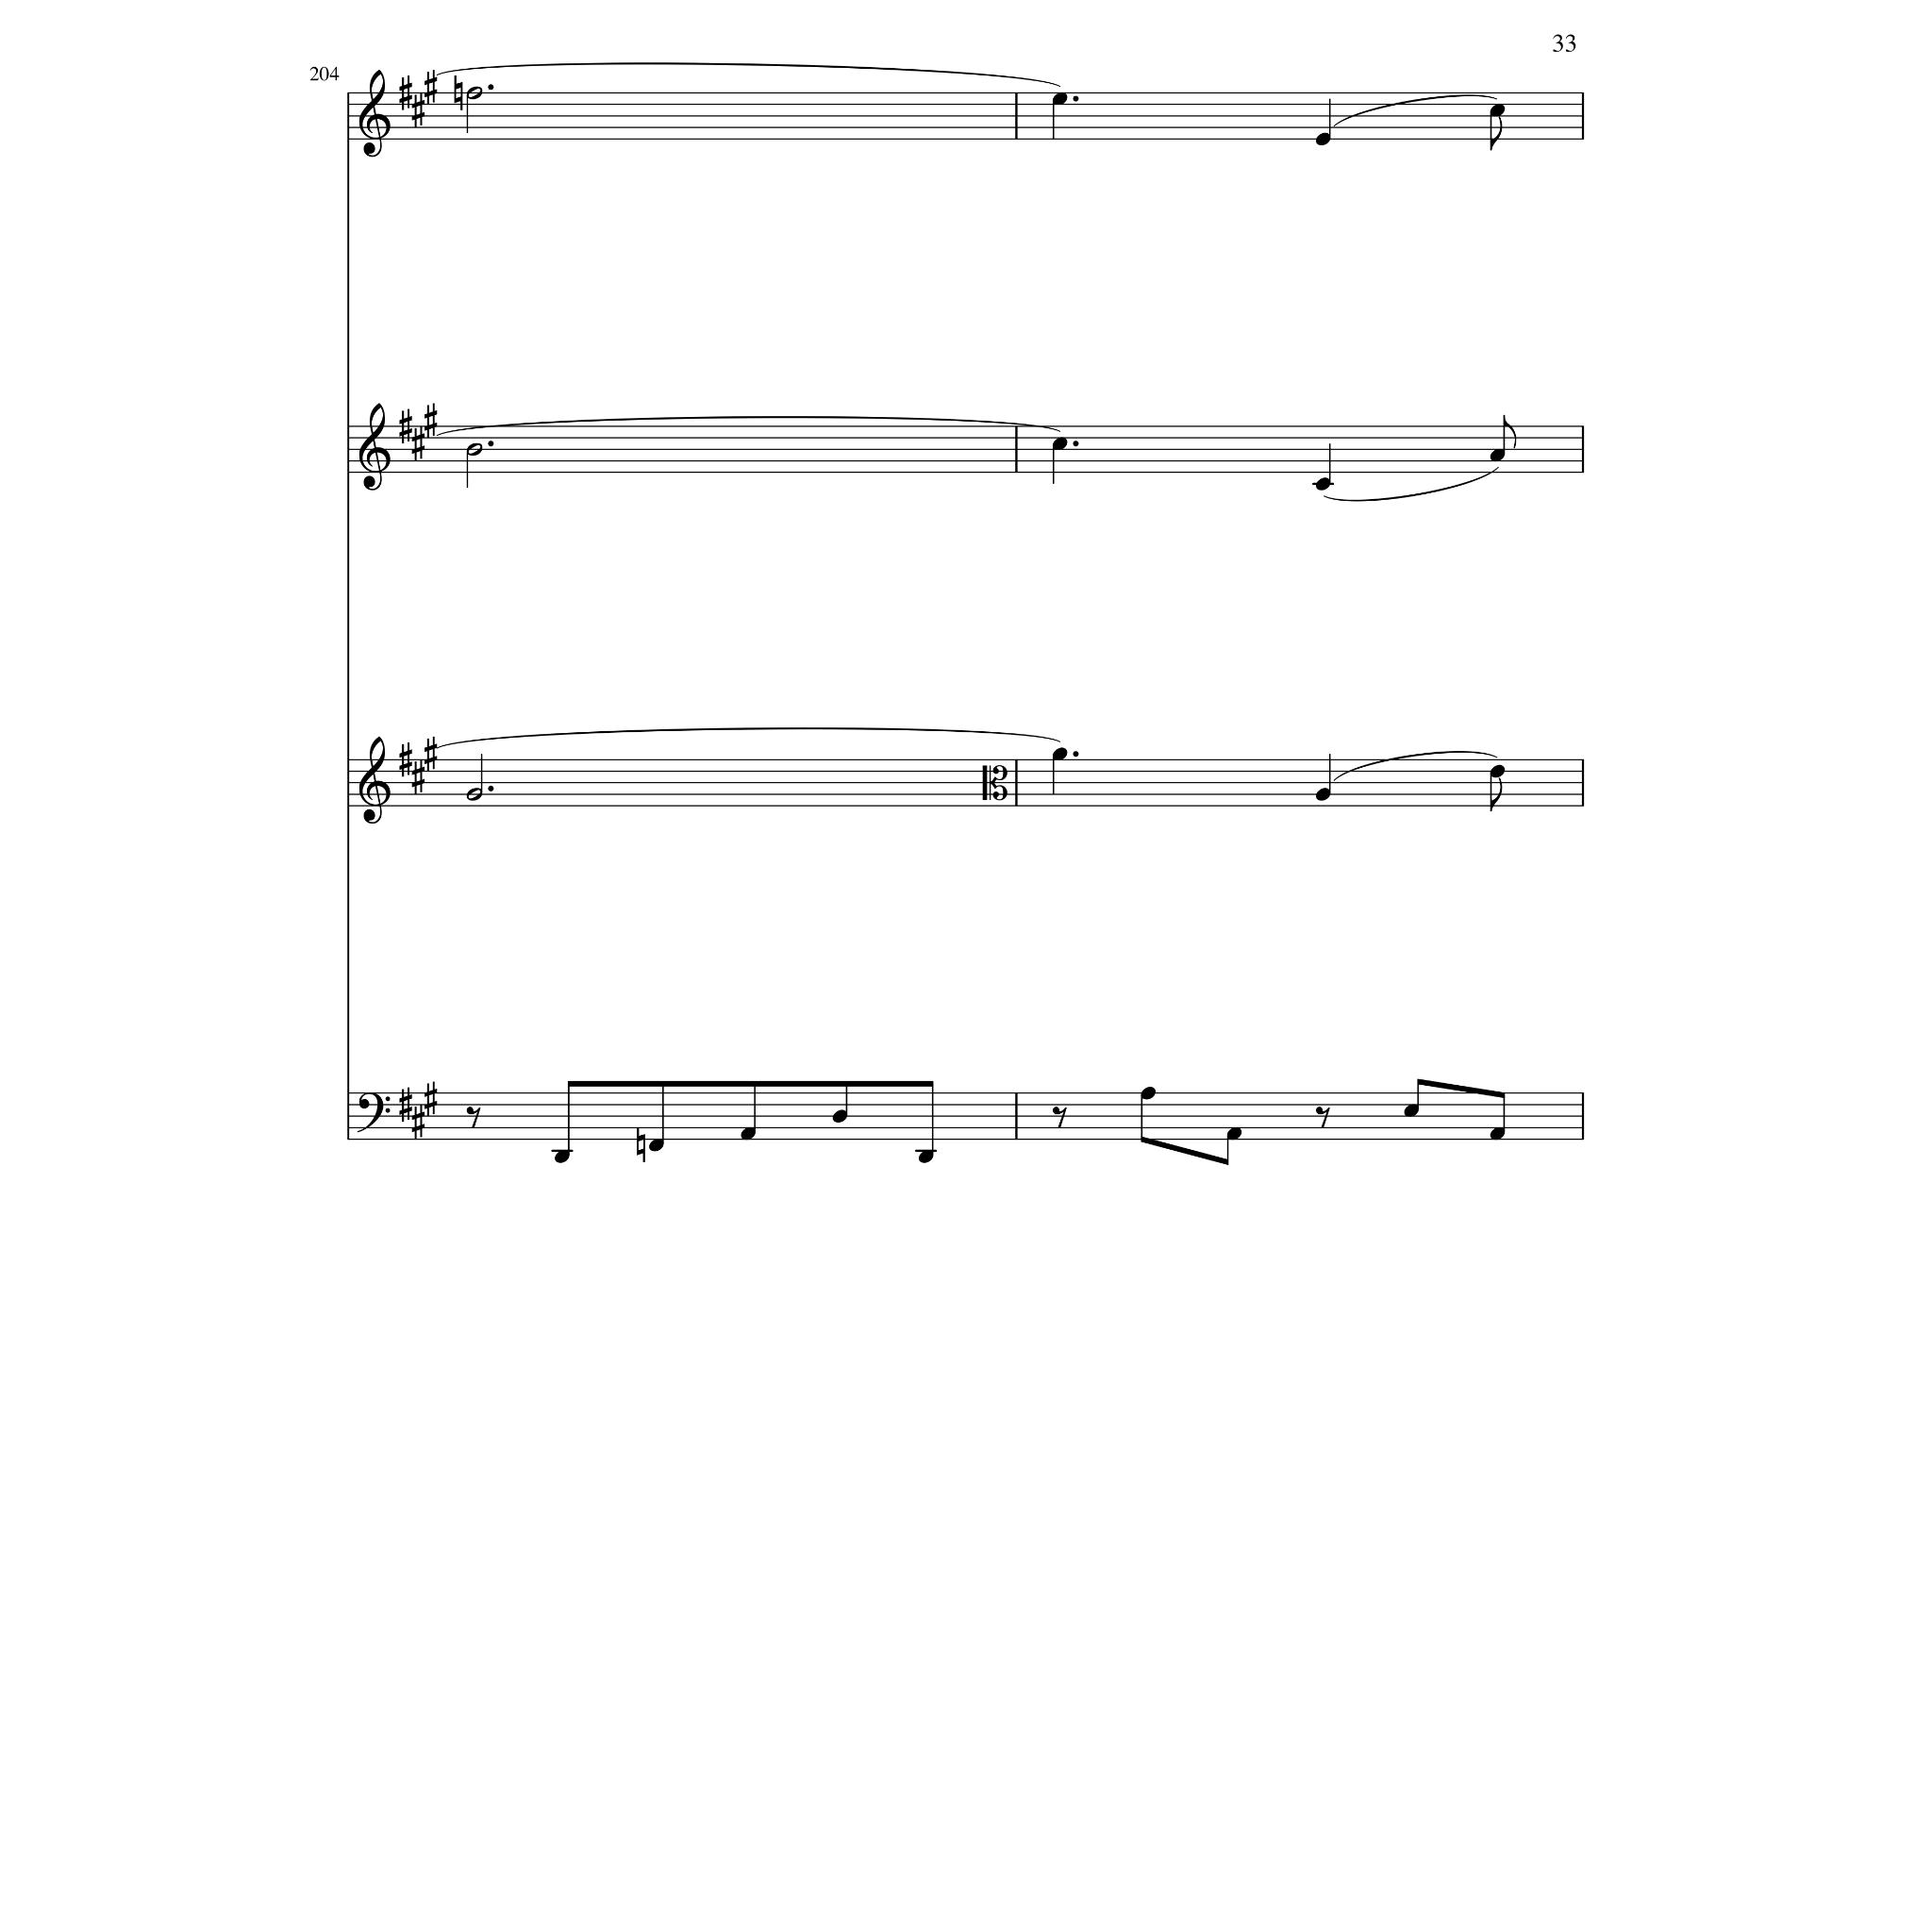fClef: (357, 1092, 391, 1134)
flag8thDown: (1491, 117, 1502, 151), (1491, 777, 1502, 811)
flag8thUp: (1504, 415, 1517, 449)
gClef: (358, 69, 391, 158), (358, 403, 391, 491), (358, 736, 391, 824)
noteheadBlack: (1051, 747, 1068, 762), (1315, 787, 1330, 802), (1140, 1087, 1157, 1100), (1489, 104, 1506, 117), (1489, 449, 1506, 462), (1489, 765, 1506, 778), (1489, 1127, 1506, 1141), (1051, 438, 1068, 451), (917, 1150, 934, 1163), (1051, 92, 1068, 106), (553, 1150, 570, 1163), (647, 1139, 664, 1152), (740, 1127, 757, 1141), (1226, 1127, 1241, 1141), (1315, 133, 1330, 146), (1315, 478, 1330, 491), (1404, 1105, 1419, 1118), (832, 1109, 847, 1123)
noteheadHalf: (466, 787, 483, 802), (466, 87, 483, 100), (466, 443, 483, 457)
rest8th: (1315, 1107, 1330, 1129), (466, 1107, 481, 1129), (1052, 1107, 1067, 1129)
